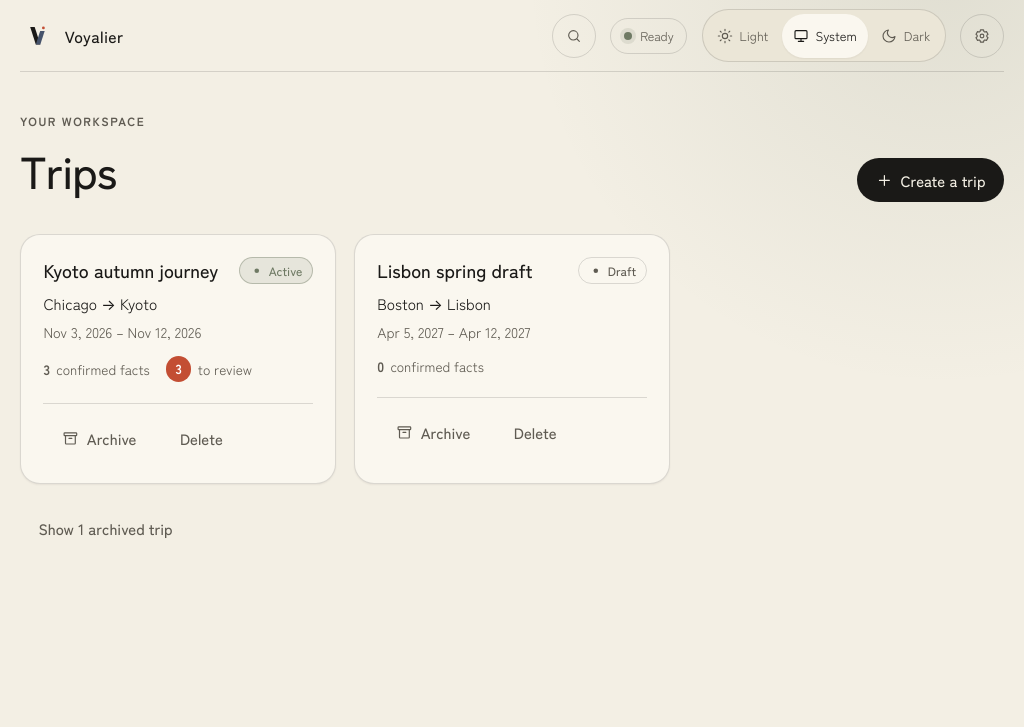
re-check sweep › says a source has never been fetched rather than staying silent
Click the button with aria-label "Open Kyoto autumn journey": (131, 270) [43, 257, 218, 283]
(page scrolled)
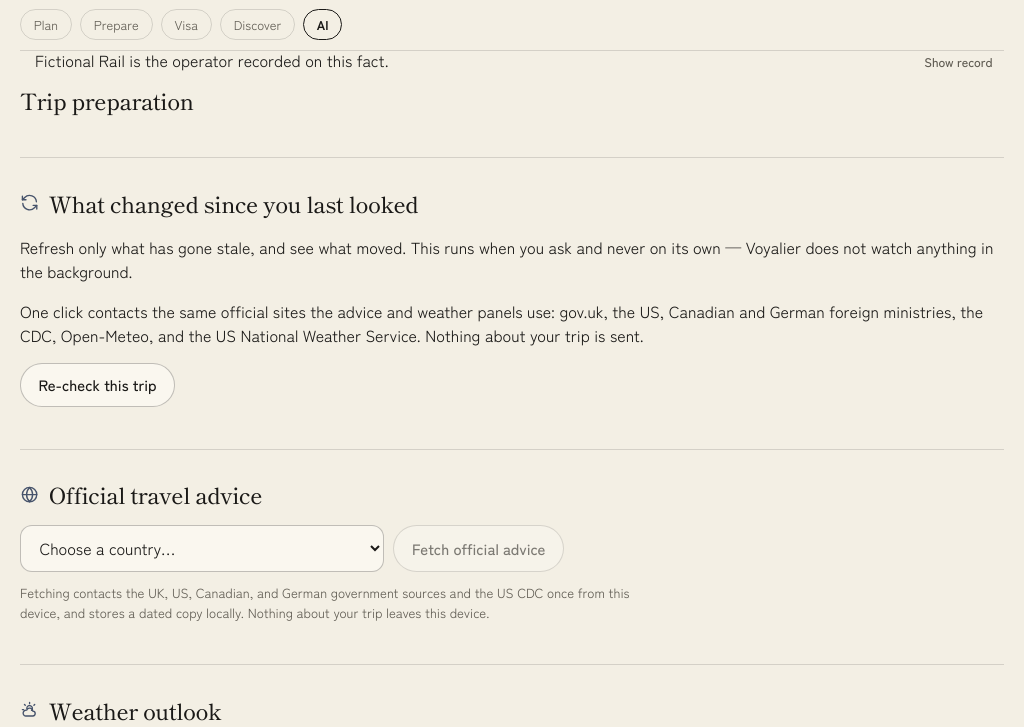
Click the button "Re-check this trip": (98, 385) [20, 363, 175, 407]
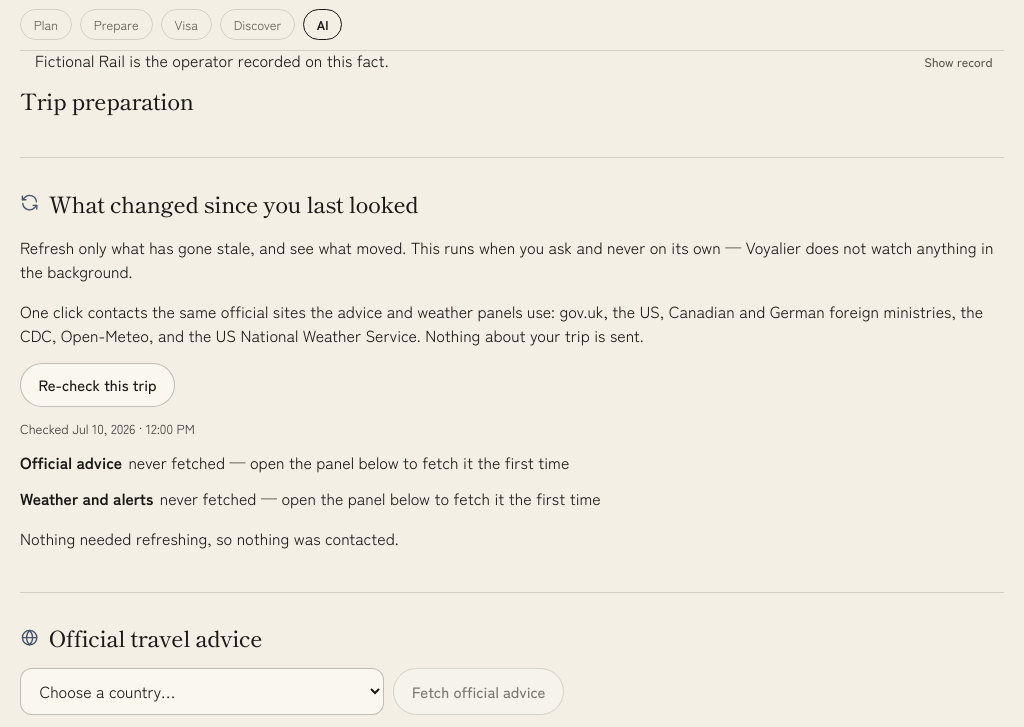
Check: the text "never fetched" is shown 2 times, box [128, 450, 569, 474]; [160, 486, 601, 510]
Check: the text "Nothing needed refreshing, so nothing was contacted." is shown, box [20, 526, 399, 550]
